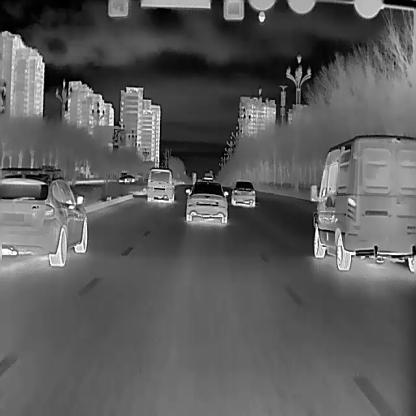car: (309, 132, 415, 272), (0, 169, 88, 266), (184, 181, 229, 223), (146, 167, 174, 202), (230, 180, 256, 207), (118, 173, 135, 183)
